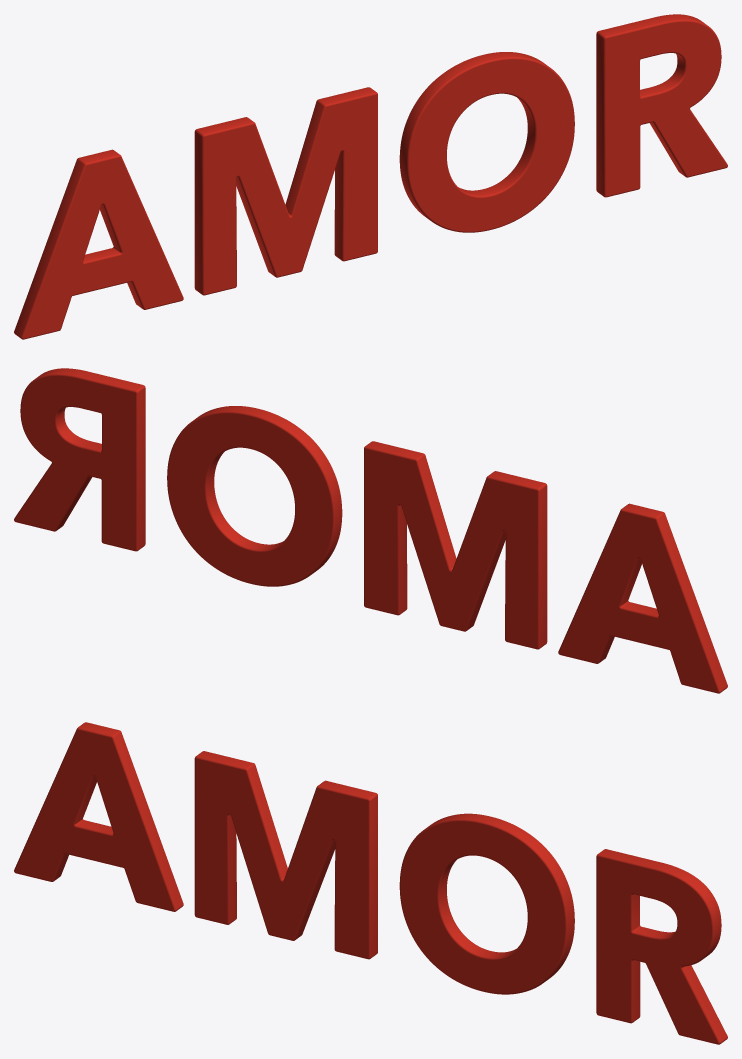
The model's file is amor-ligera.glb.
The picture shows the model from 3 angles, top to bottom: view 1: azimuth 30°, elevation 25°; view 2: azimuth 150°, elevation 25°; view 3: azimuth 330°, elevation 25°; orthographic projection.
Visible parts, largest first — view 1: geometry_0; view 2: geometry_0; view 3: geometry_0.
Boxes of the visible parts, box(x1,y1,x2,y2) form: geometry_0: box(14, 14, 727, 339); geometry_0: box(14, 368, 727, 693); geometry_0: box(14, 722, 727, 1044).
Bounding box in the file's own units: 3.25 × 0.746 × 0.07.
